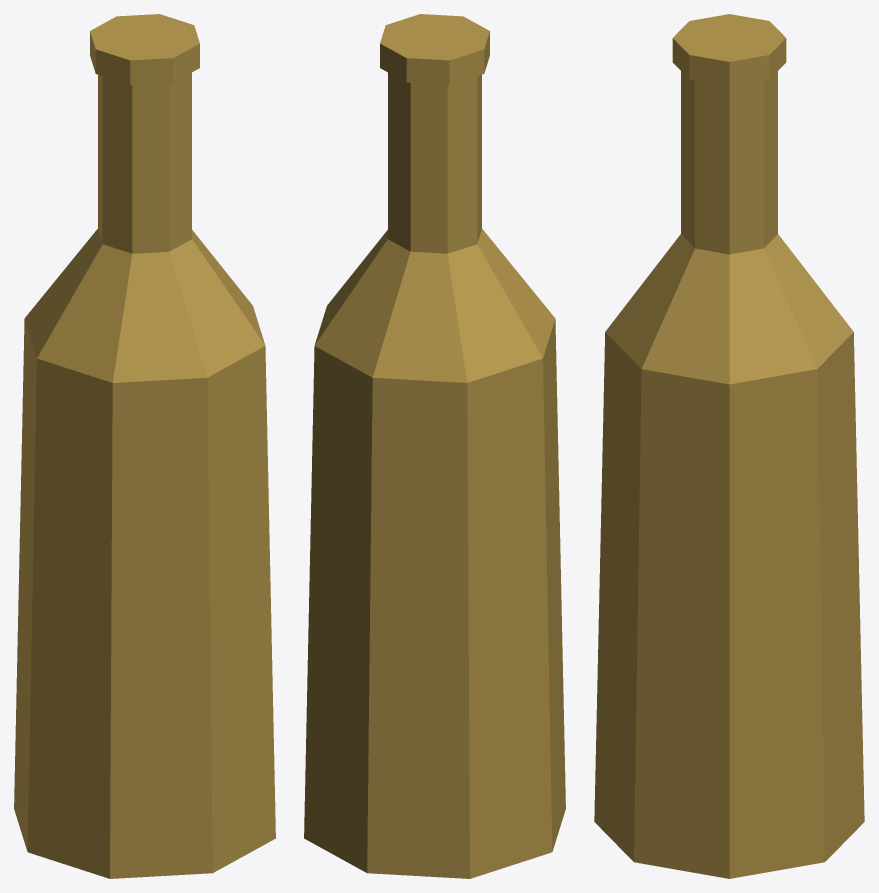
Rendered from bottle-gold.glb.
The picture shows the model from 3 angles, left to right: view 1: azimuth 30°, elevation 25°; view 2: azimuth 150°, elevation 25°; view 3: azimuth 270°, elevation 25°; orthographic projection.
Parts seen in each view (by area): view 1: bottle; view 2: bottle; view 3: bottle.
Boxes of the visible parts, x1=… form: bottle: x1=14, y1=14, x2=275, y2=878; bottle: x1=304, y1=14, x2=565, y2=878; bottle: x1=594, y1=14, x2=864, y2=878.
Size of the model in its own units: 0.1 by 0.32 by 0.1.
